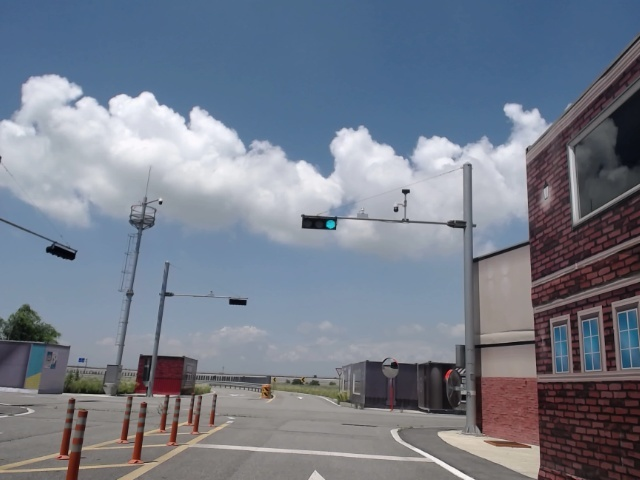green_3: (303, 217, 335, 229)
